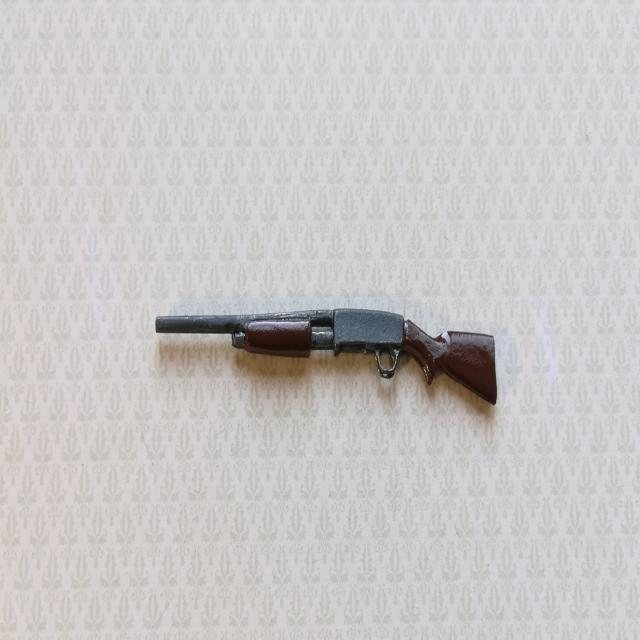ShotGun: (154, 309, 497, 404)
